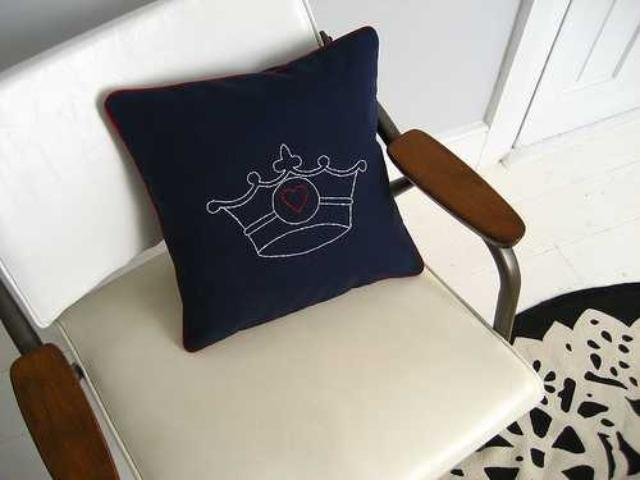pillow: (101, 24, 423, 352)
